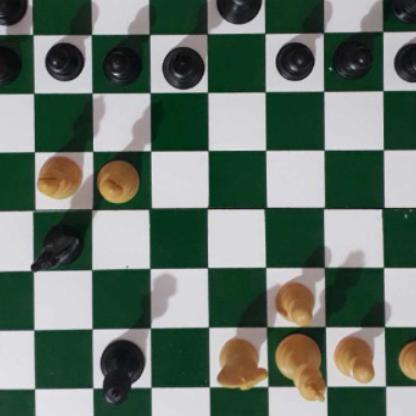black-bishop: (159, 45, 206, 90)
black-king: (213, 0, 263, 24)
black-knight: (29, 217, 84, 273)
black-pawn: (275, 37, 314, 80), (334, 37, 373, 79), (43, 40, 82, 81), (102, 42, 141, 82), (393, 39, 416, 82), (0, 41, 20, 81)
black-queen: (95, 337, 147, 406)
black-rook: (0, 0, 28, 25), (391, 0, 416, 21)
white-bishop: (95, 158, 142, 206), (35, 156, 82, 202)
white-king: (275, 332, 324, 401)
white-knight: (214, 337, 268, 393)
white-pawn: (334, 334, 377, 384), (273, 277, 315, 323), (397, 338, 416, 384)
